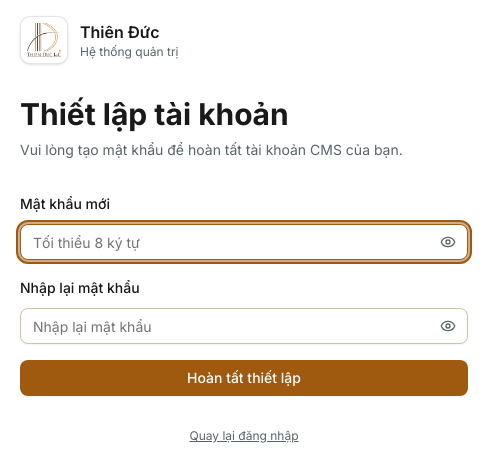
Scenario: AccountSetupPage › thành công → gọi accept kèm token, hiện trạng thái thành công
Type "MatKhau123" into the password field labelled "Mật khẩu mới".
click(244, 242); type("MatKhau123")  # box x1=20 y1=224 x2=468 y2=260
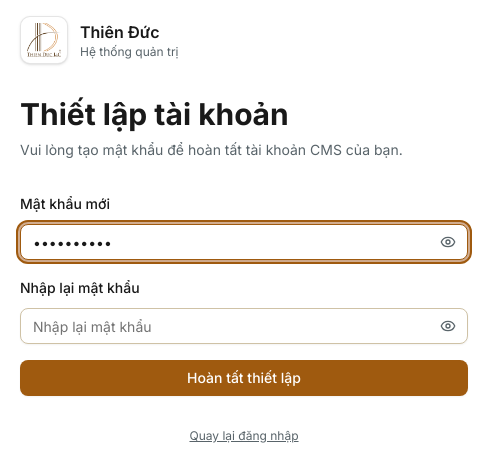
Type "MatKhau123" into the password field labelled "Nhập lại mật khẩu".
click(244, 326); type("MatKhau123")  # box x1=20 y1=308 x2=468 y2=344
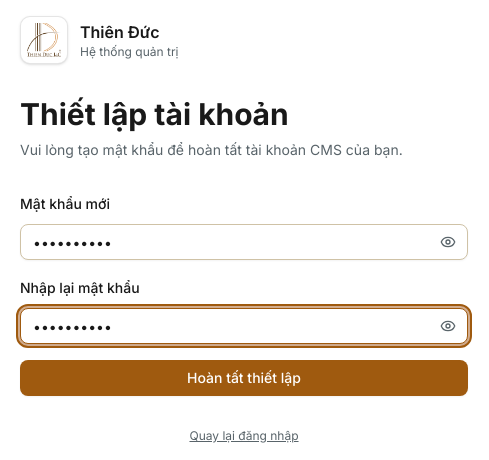
Click the button "Hoàn tất thiết lập".
click(244, 378)  # box x1=20 y1=360 x2=468 y2=396
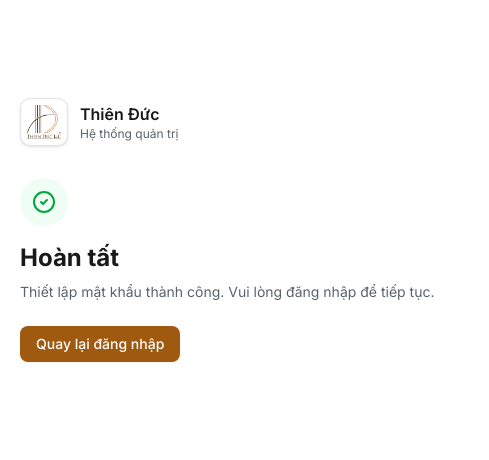
Check: the text "Thiết lập mật khẩu thành công" is shown, box x1=20 y1=283 x2=434 y2=300
